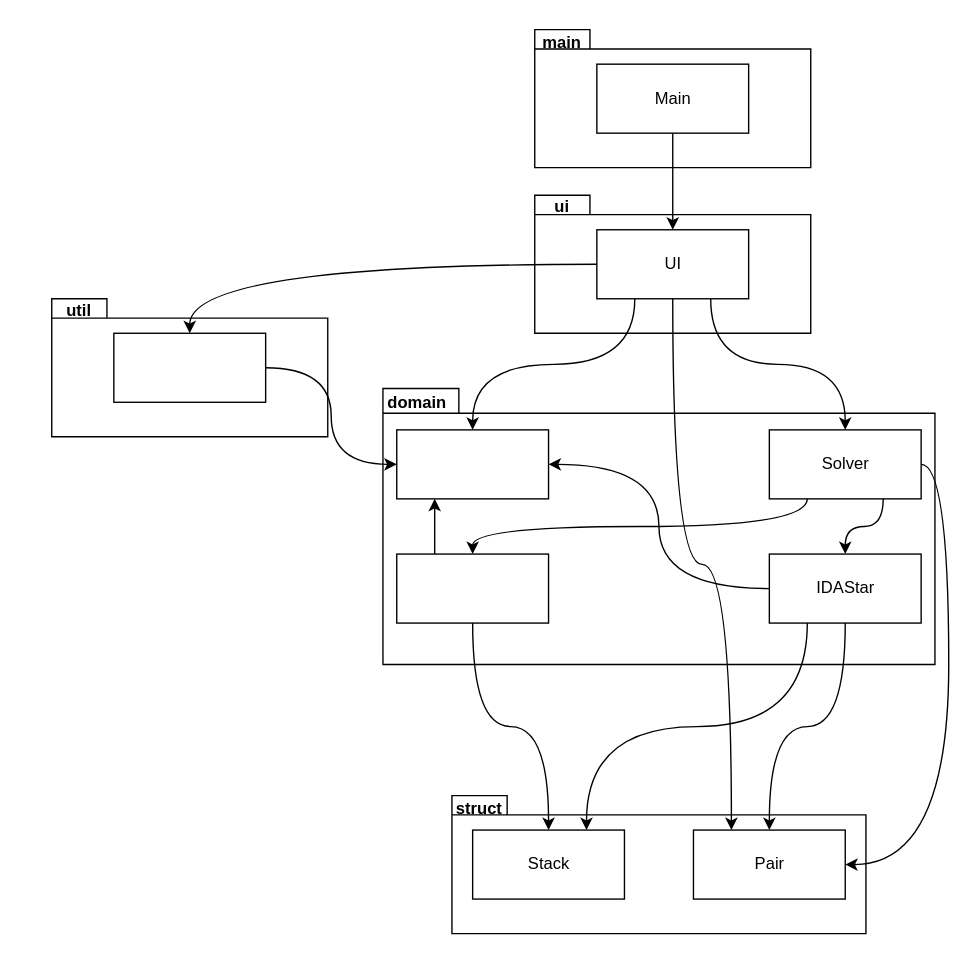
Image size: 973x958. Some labels were removed from this diagram. The shapes that lost their labels are listed below. From the top down, each one's centre as x and y in pixels, then its label:
At pixel 189 367: "PuzzleGen".
At pixel 472 463: "PuzzleState".
At pixel 472 588: "IDDFS".
